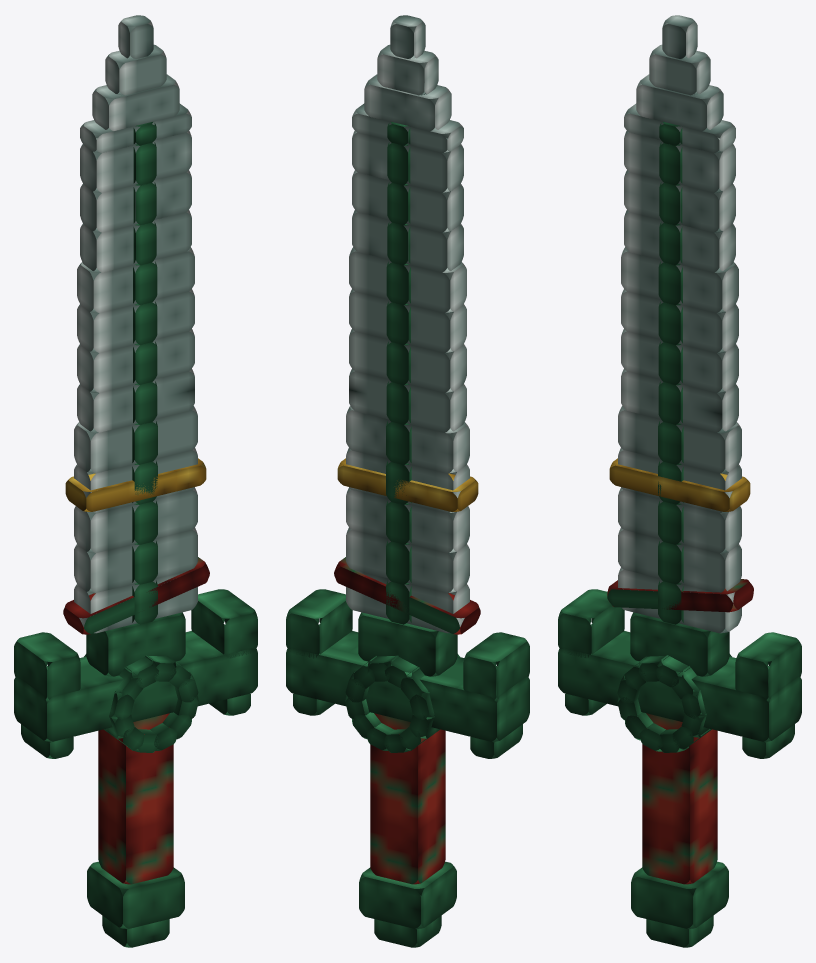
File: jade_jian.obj
3 views of the same model, side by side, from view 1: azimuth 30°, elevation 25°; view 2: azimuth 150°, elevation 25°; view 3: azimuth 330°, elevation 25° (orthographic).
Parts seen in each view (by area): view 1: lit; view 2: lit; view 3: lit.
Boxes of the visible parts, left/top/right/bottom form: lit: left=14, top=15, right=257, bottom=947; lit: left=286, top=15, right=529, bottom=947; lit: left=558, top=15, right=801, bottom=947.
Size of the model in its own units: 0.5528 by 2.29 by 0.1875.
